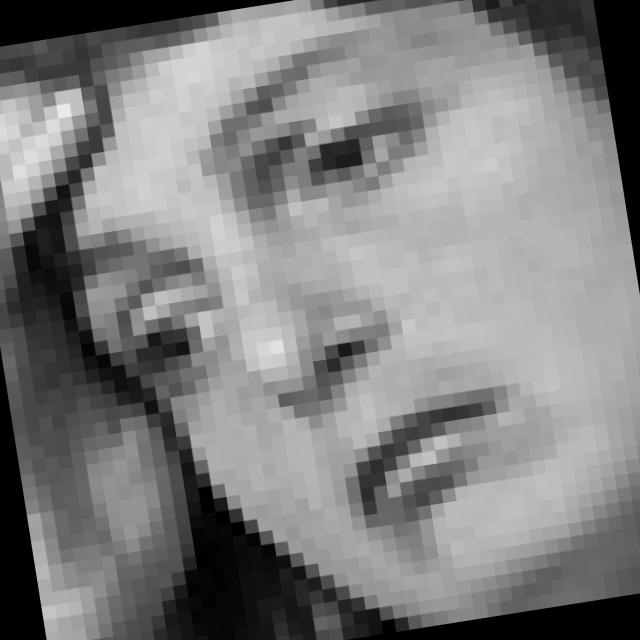sad: (35, 11, 556, 620)
